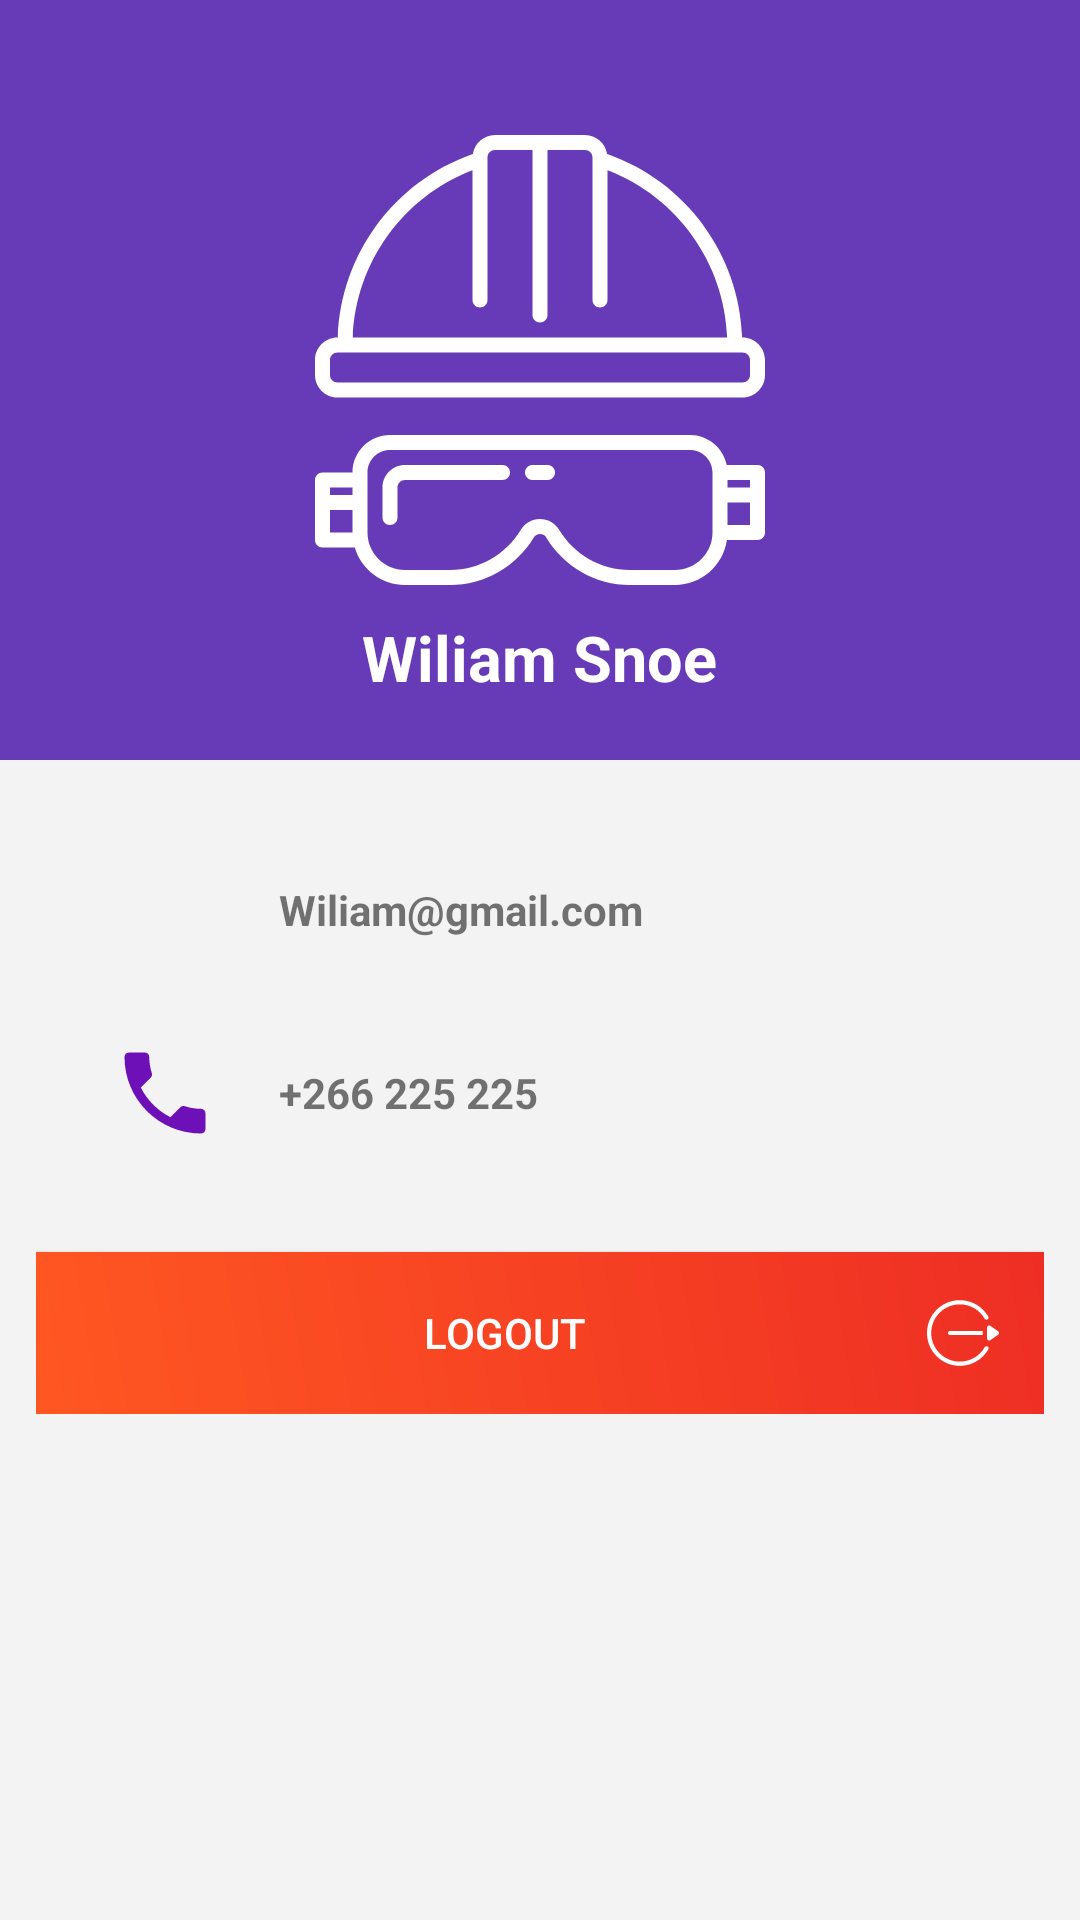

Icon click points for this 1080 x 1920 phone screenshot, format (x=x, y=y):
local phone: (x=165, y=1093)
